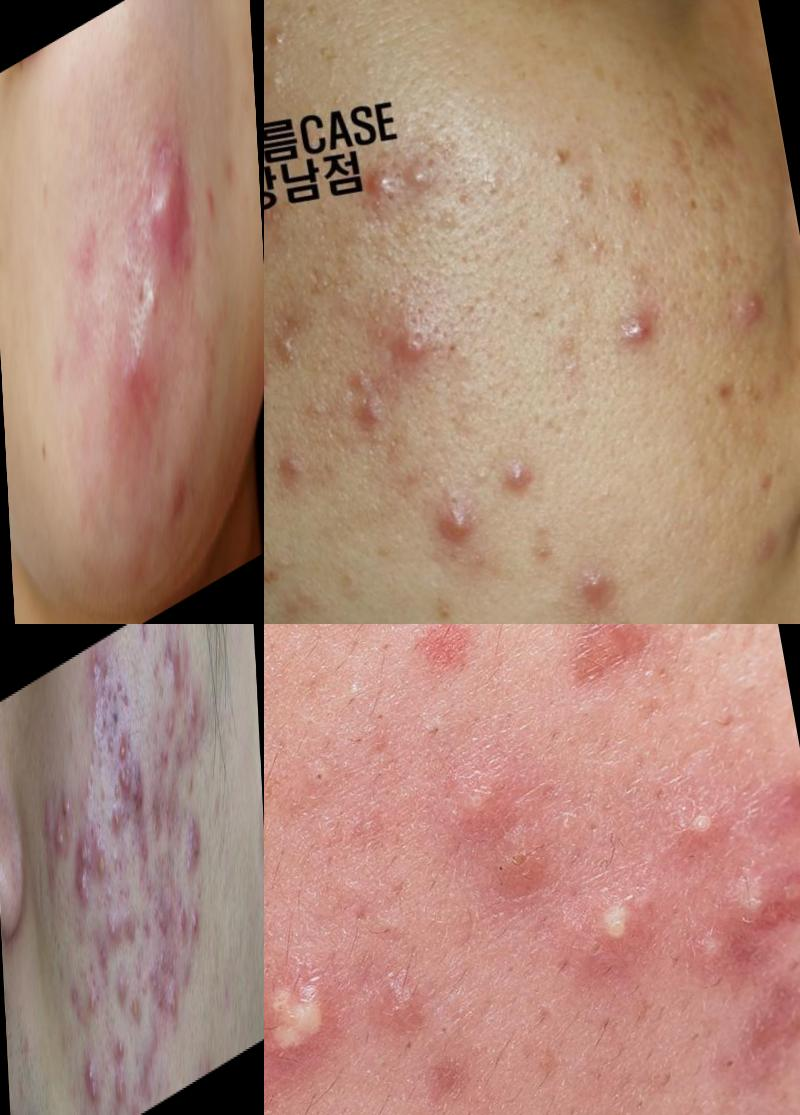acne_scars: (542, 625, 687, 728)
blackhead: (111, 836, 123, 884)
cystic: (140, 132, 194, 288)
papular: (569, 536, 645, 625), (341, 378, 412, 465), (494, 444, 562, 502), (163, 625, 183, 691), (163, 702, 180, 754), (59, 790, 76, 831), (177, 896, 189, 942)
purulent: (554, 880, 680, 980), (371, 135, 454, 239), (665, 775, 747, 869), (610, 295, 691, 384), (433, 493, 489, 580), (142, 271, 177, 333), (86, 972, 104, 1021), (169, 982, 181, 1046), (116, 1071, 129, 1115), (187, 688, 200, 731), (110, 798, 124, 837), (97, 837, 106, 890), (119, 729, 130, 770), (117, 1019, 127, 1064), (108, 910, 120, 947), (131, 991, 140, 1032)
sebo-crystan-conglo: (265, 933, 353, 1087), (711, 850, 800, 958), (283, 745, 363, 837), (113, 321, 169, 431), (409, 994, 487, 1068), (402, 703, 462, 777), (149, 894, 177, 989), (75, 819, 98, 924), (121, 760, 148, 832), (183, 808, 204, 892), (84, 1046, 104, 1114), (87, 649, 106, 702), (55, 821, 69, 870), (191, 903, 204, 944)
whitehead: (265, 1, 340, 128), (265, 311, 322, 392)
